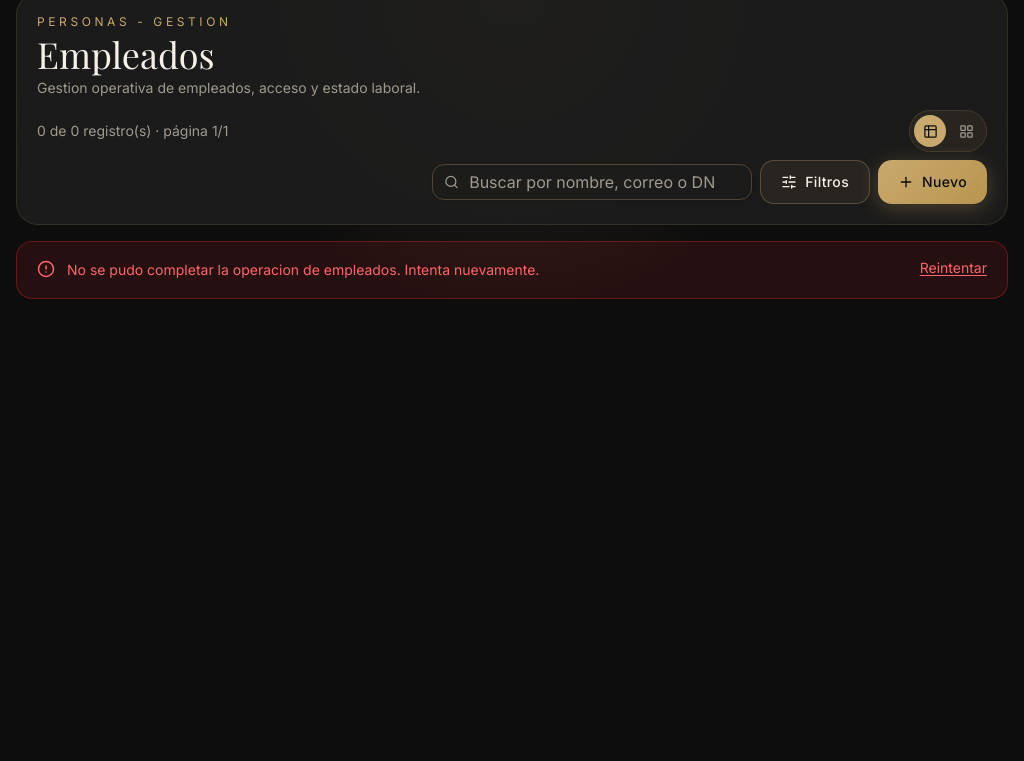
Test: paginación, estado vacío y reintento después de error de lista
Click the button "Reintentar" at (953, 268), box [920,258,987,278]
(page scrolled)
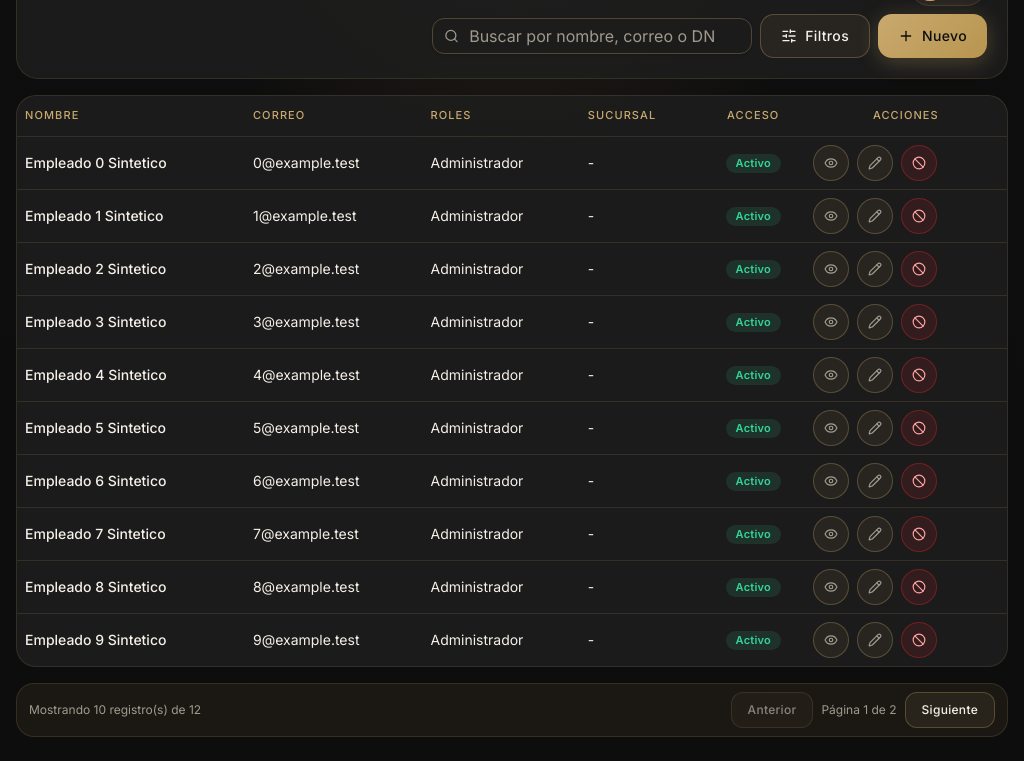
Expected: the text "Empleado 0 Sintetico" is shown, [17,136,245,189]
Click the button "Siguiente" at (950, 710), box [905,692,995,728]
(page scrolled)
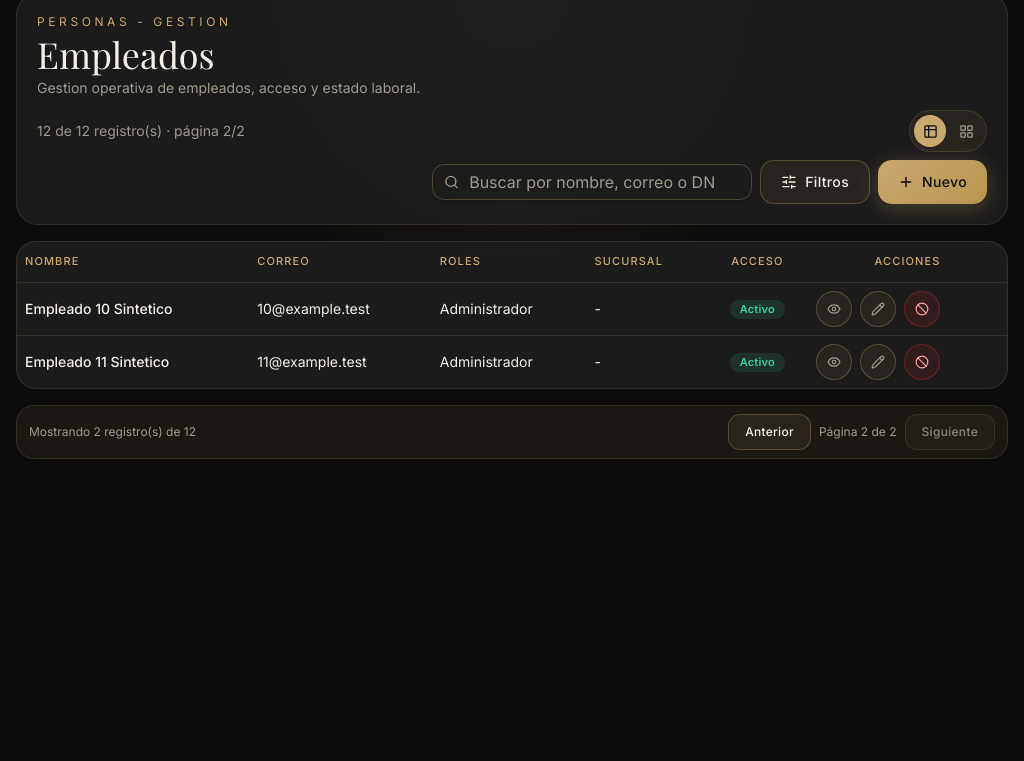
Expected: the text "Empleado 10 Sintetico" is shown, [17,282,249,335]
Expected: the text "Empleado 0 Sintetico" is gone
Type "inexistente" into the field with placeholder "Buscar por nombre, correo o DNI..." at (592, 182), box [432,164,752,200]
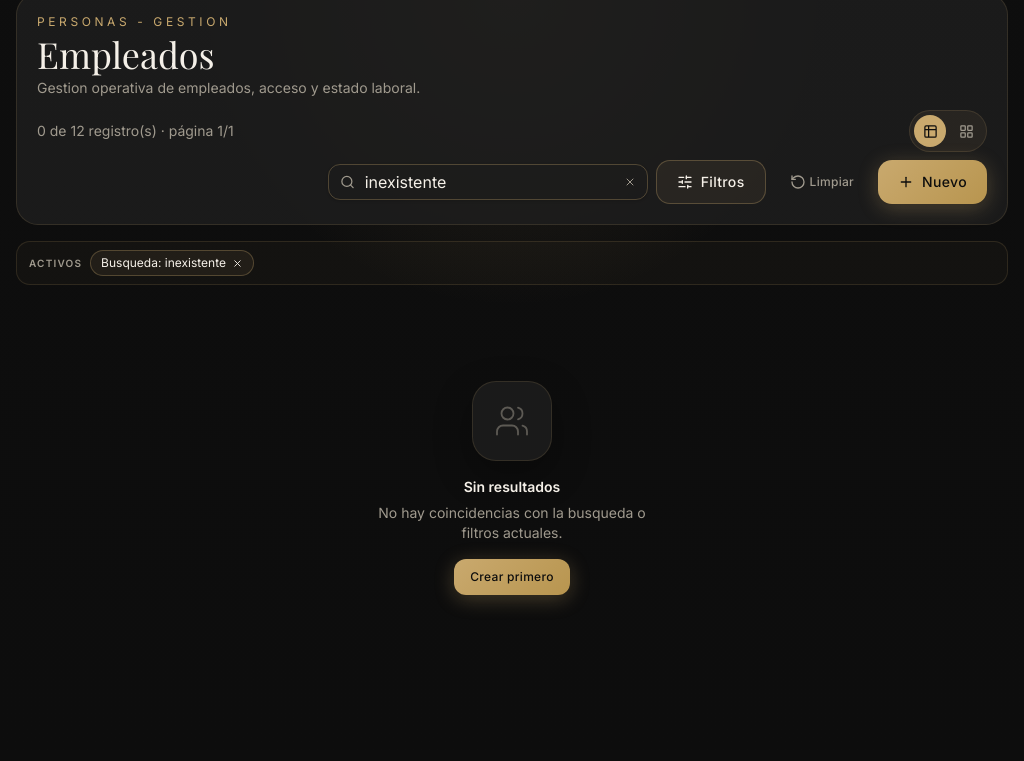
Expected: the text "Empleado 10 Sintetico" is gone
